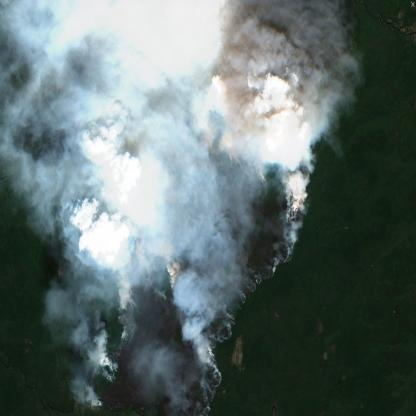fire: (92, 128, 302, 416)
